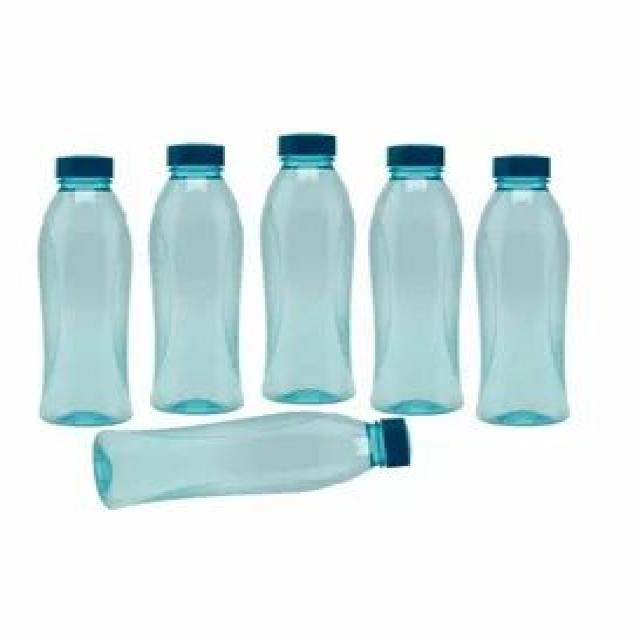blue: (92, 416, 385, 506), (39, 182, 133, 428), (149, 172, 244, 415), (260, 162, 354, 403)
